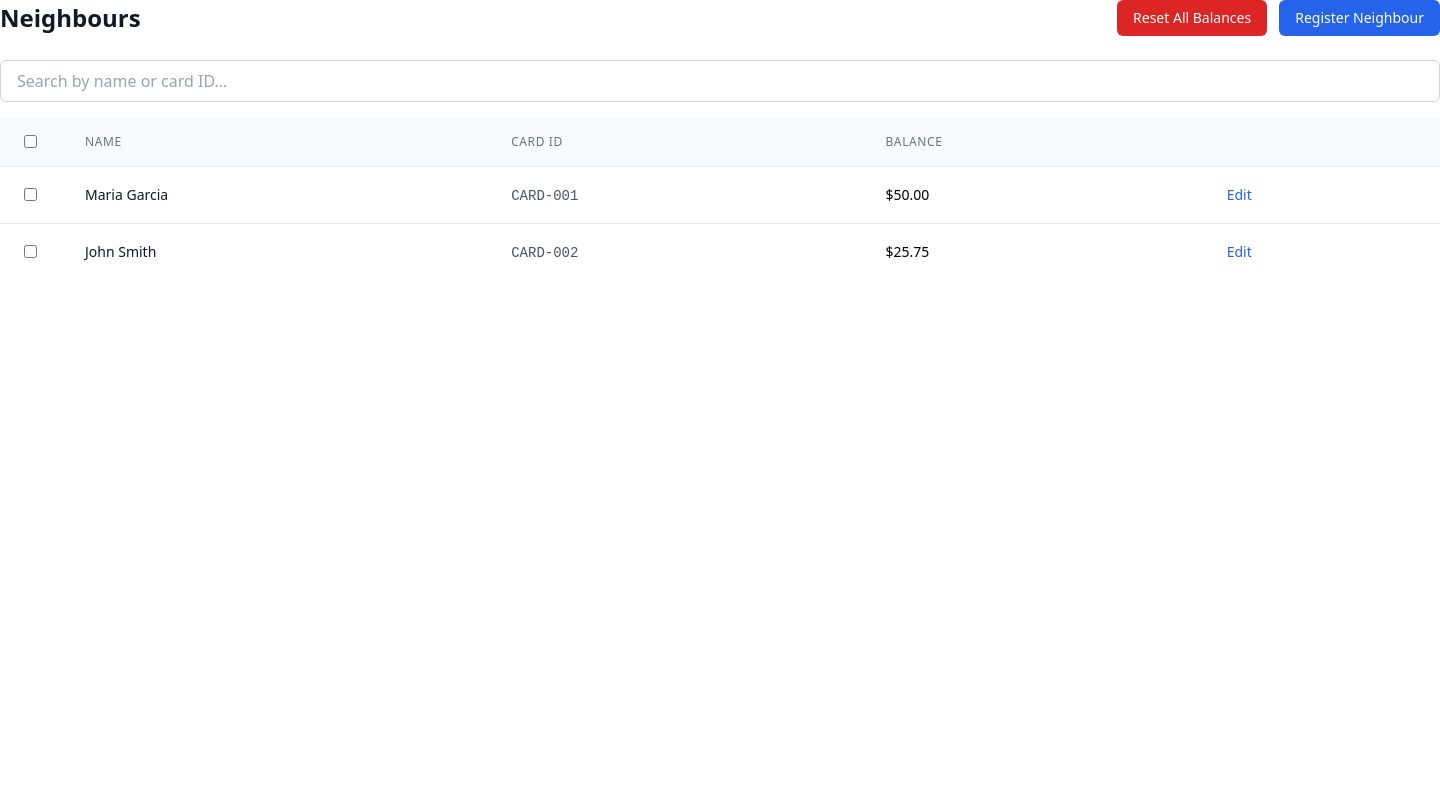
Test case: NeighbourListPage › closes modal on cancel
This screenshot has width=1440, height=810.
Step 1. Click the button with test id "reset-balances-button" → (1192, 18), box [1117, 0, 1267, 36]
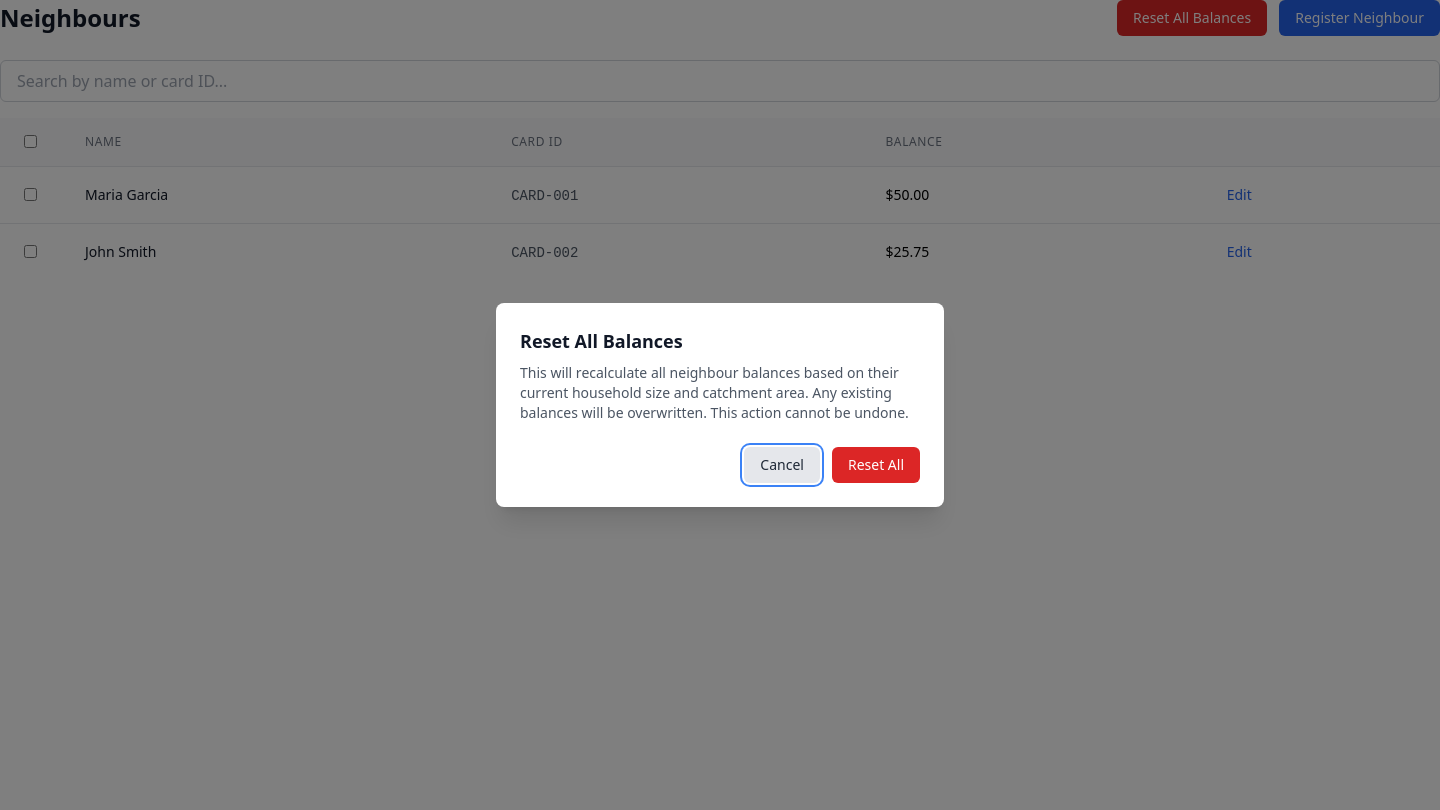
Expected: the dialog with test id "confirm-modal" is shown
Step 2. Click the button with test id "confirm-modal-cancel" → (782, 465), box [744, 447, 820, 483]
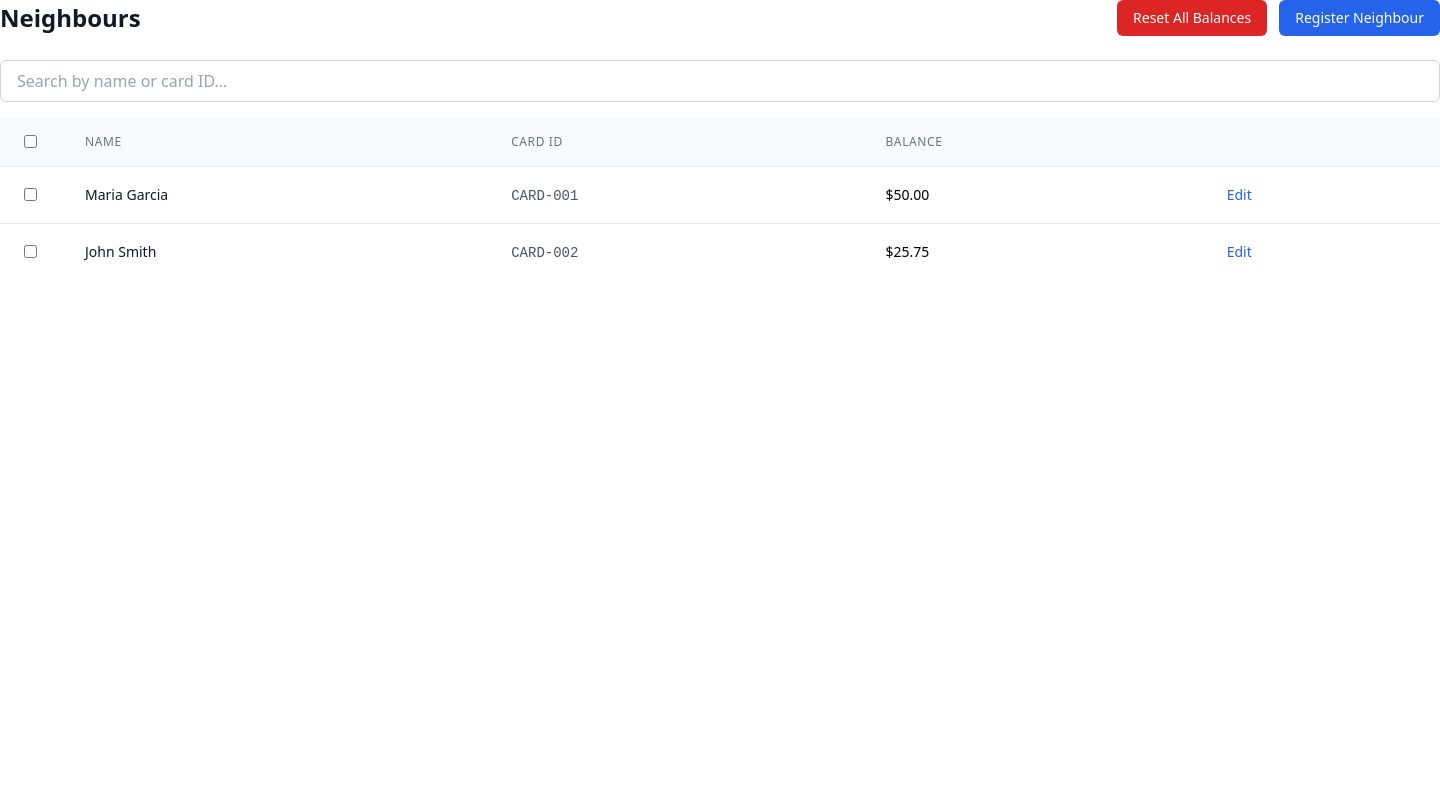
Expected: the dialog with test id "confirm-modal" is gone
